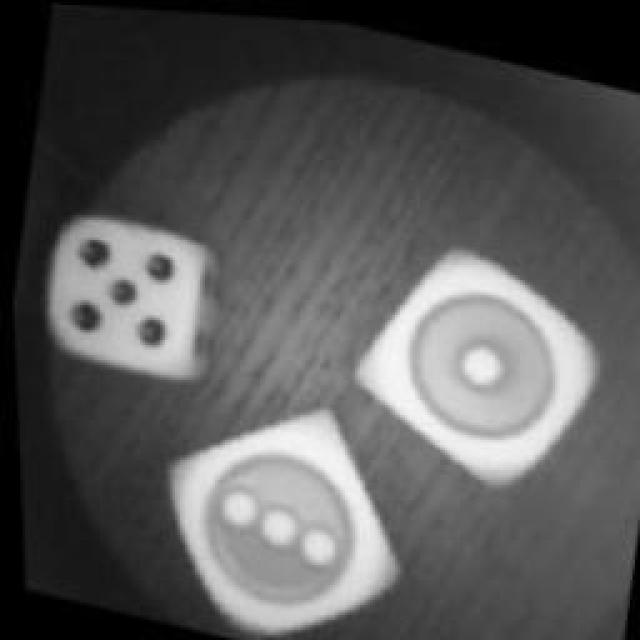dice_1: (335, 214, 620, 501)
dice_3: (139, 367, 402, 640)
dice_5: (28, 190, 232, 392)
